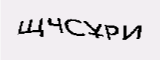Д: (40, 1, 72, 24)
Е: (84, 12, 95, 29)
М: (106, 17, 122, 36)
С: (71, 5, 85, 24), (95, 14, 108, 34)
